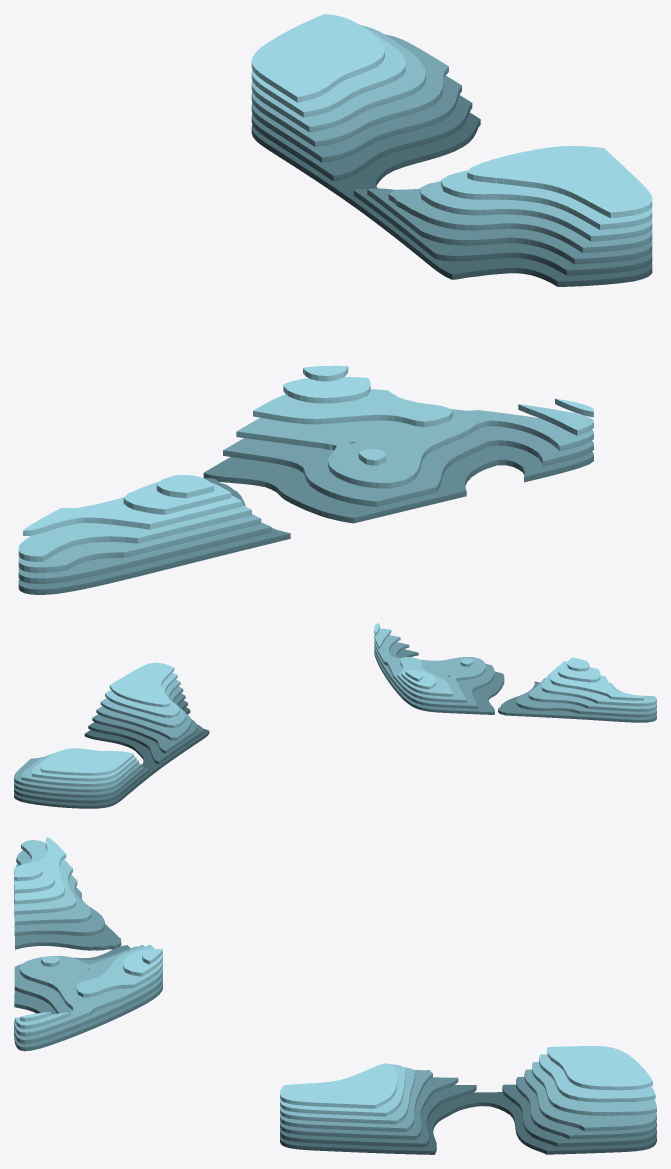
The model's file is RecorridoPuertoMadero.gltf.
3 renders of one model, top to bottom at view 1: azimuth 30°, elevation 25°; view 2: azimuth 150°, elevation 25°; view 3: azimuth 270°, elevation 25°, orthographic. The views are drawn at different scales.
Visible parts, largest first — view 1: MarcadorPuertoMadero; view 2: MarcadorPuertoMadero; view 3: MarcadorPuertoMadero.
Part boxes in pixels (x1,y1,x2,y2): MarcadorPuertoMadero: (18, 14, 652, 594); MarcadorPuertoMadero: (14, 623, 656, 808); MarcadorPuertoMadero: (14, 837, 656, 1154).
Size of the model in its own units: 3.21 by 0.3297 by 3.16.
Materials: 1 (1 with a texture image).
